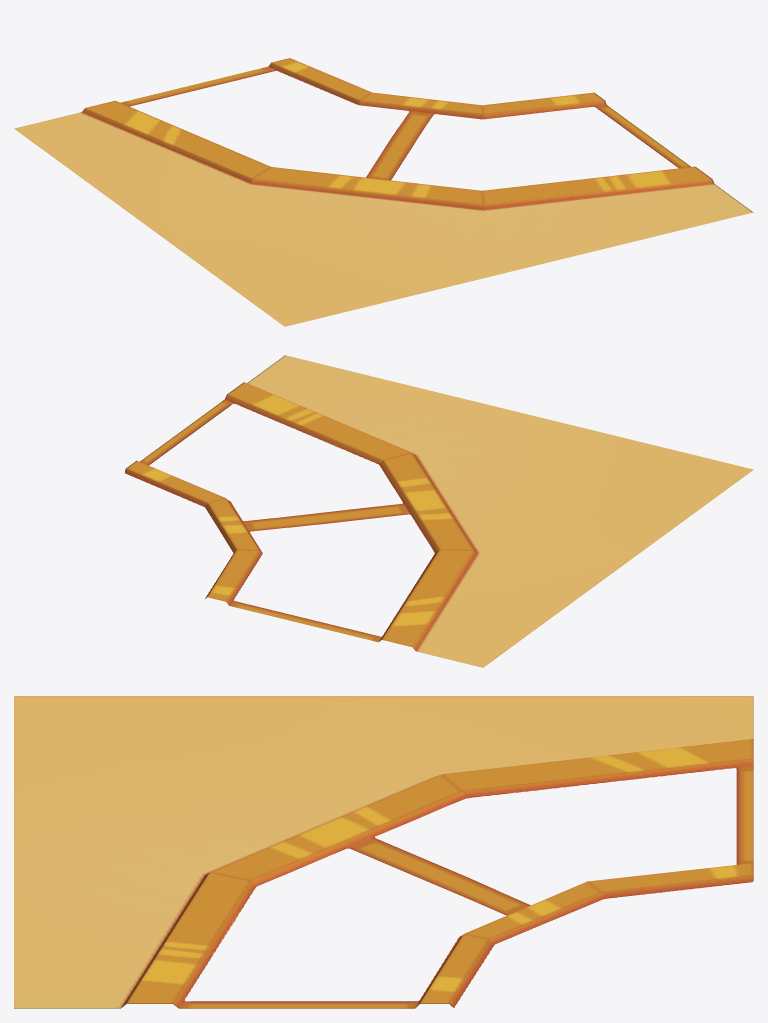
Rendered from desertWindowTile_MAT.fbx.
3 renders of one model, top to bottom at view 1: azimuth 30°, elevation 25°; view 2: azimuth 150°, elevation 25°; view 3: azimuth 270°, elevation 25°, orthographic. The views are drawn at different scales.
Visible parts, largest first — view 1: desertWindowTile; view 2: desertWindowTile; view 3: desertWindowTile.
Boxes of the visible parts, bbox=[...] form: desertWindowTile: bbox=[14, 58, 753, 326]; desertWindowTile: bbox=[125, 355, 753, 667]; desertWindowTile: bbox=[14, 696, 753, 1008].
Size of the model in its own units: 1 by 0.00669 by 1.
